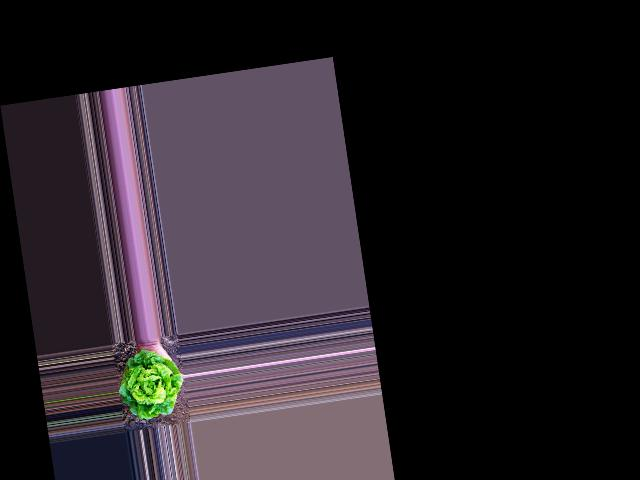lettuce: (116, 349, 186, 423)
